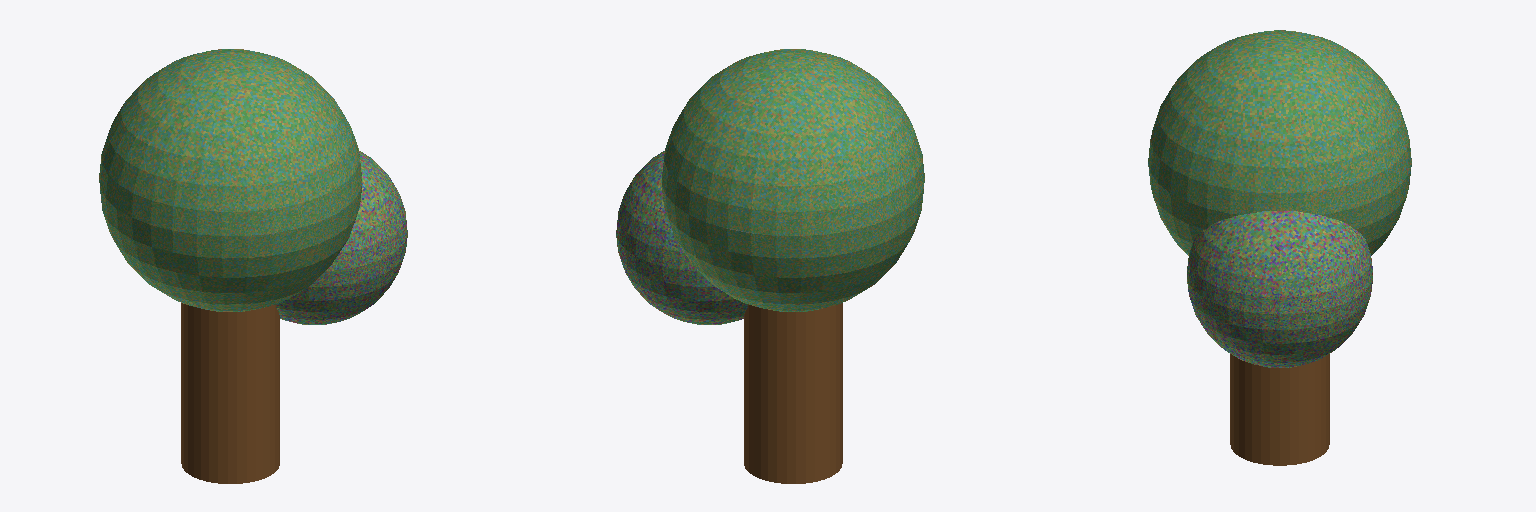
3 views of the same model, side by side, from view 1: azimuth 30°, elevation 25°; view 2: azimuth 150°, elevation 25°; view 3: azimuth 270°, elevation 25° (orthographic).
Parts seen in each view (by area): view 1: Cube_Cube.001; view 2: Cube_Cube.001; view 3: Cube_Cube.001.
Boxes of the visible parts, x1,y1,x2,y2 form: Cube_Cube.001: [99, 49, 407, 483]; Cube_Cube.001: [616, 49, 924, 483]; Cube_Cube.001: [1148, 30, 1411, 465].
Size of the model in its own units: 3.45 by 4.75 by 2.82.
Materials: 1 (1 with a texture image).